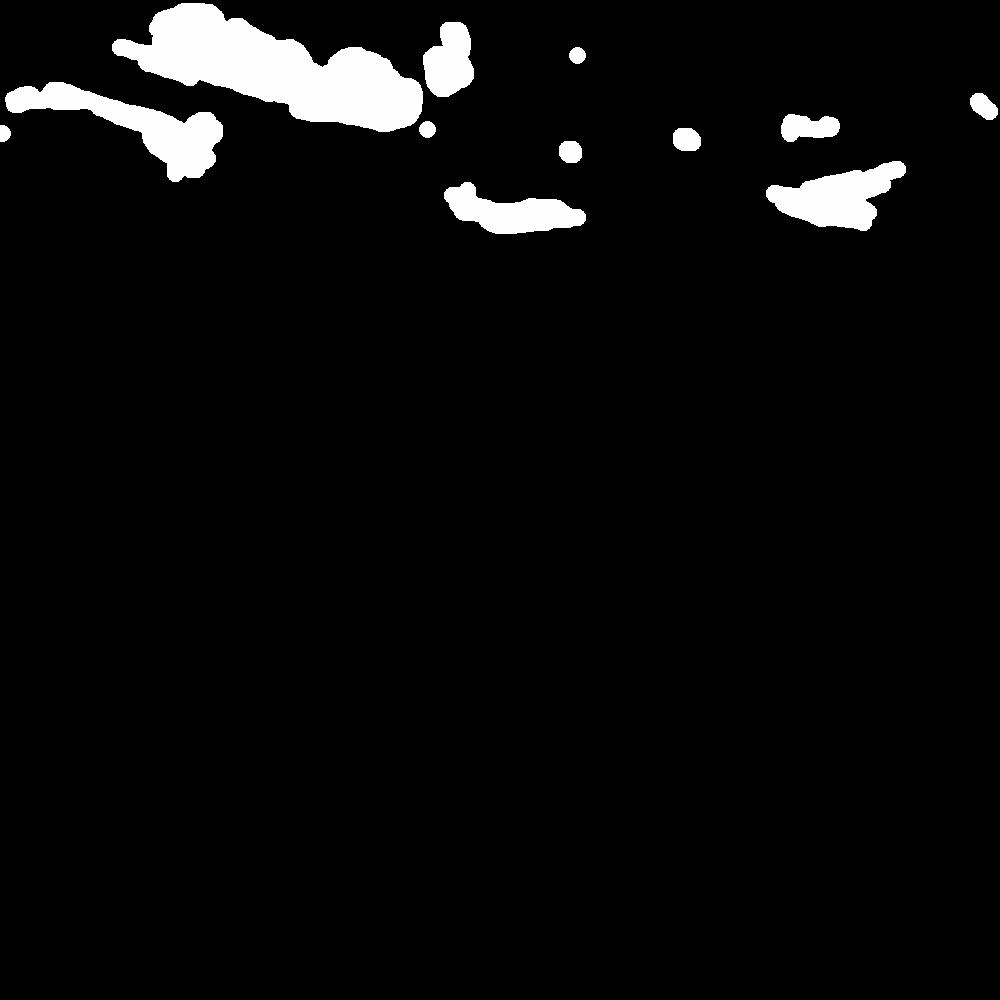illegal: (122, 1, 404, 133), (89, 90, 214, 176), (763, 162, 897, 236), (459, 199, 570, 233), (431, 30, 466, 80), (384, 180, 439, 203), (558, 43, 601, 66), (769, 119, 817, 135), (9, 80, 35, 108), (560, 146, 579, 165), (675, 132, 696, 149), (49, 89, 67, 107), (974, 92, 988, 115), (1, 124, 7, 138)
